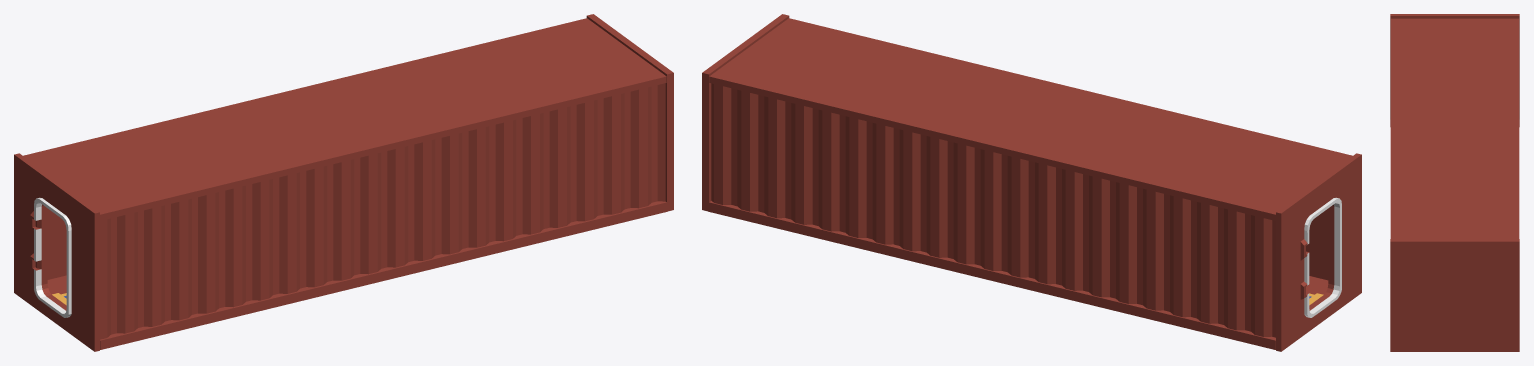
The model's file is control_crate.glb.
3 renders of one model, left to right at view 1: azimuth 30°, elevation 25°; view 2: azimuth 150°, elevation 25°; view 3: azimuth 270°, elevation 25°, orthographic. The views are drawn at different scales.
Parts seen in each view (by area): view 1: Plane, Cube, Cube.001, Cube.003, Cube.004, Plane.002; view 2: Plane.001, Cube, Cube.001, Cube.003, Cube.004, Plane.002; view 3: Cube, Cube.004, Cube.001, Cube.003.
Part boxes in pixels (box(x1,y1,x2,y2)): Plane: box(100, 83, 665, 339); Cube: box(23, 18, 666, 220); Cube.001: box(14, 153, 99, 351); Cube.003: box(100, 201, 666, 349); Cube.004: box(586, 14, 673, 211); Plane.002: box(47, 209, 66, 305); Plane.001: box(711, 83, 1275, 337); Cube: box(709, 18, 1352, 220); Cube.001: box(1276, 153, 1361, 351); Cube.003: box(709, 201, 1275, 349); Cube.004: box(702, 14, 789, 211); Plane.002: box(1306, 209, 1328, 305); Cube: box(1391, 18, 1518, 238); Cube.004: box(1390, 239, 1519, 351); Cube.001: box(1390, 14, 1519, 126); Cube.003: box(1390, 120, 1519, 238).
Bounding box in the file's own units: 11.47 × 2.6 × 2.75.
2 materials, 2 textured.
